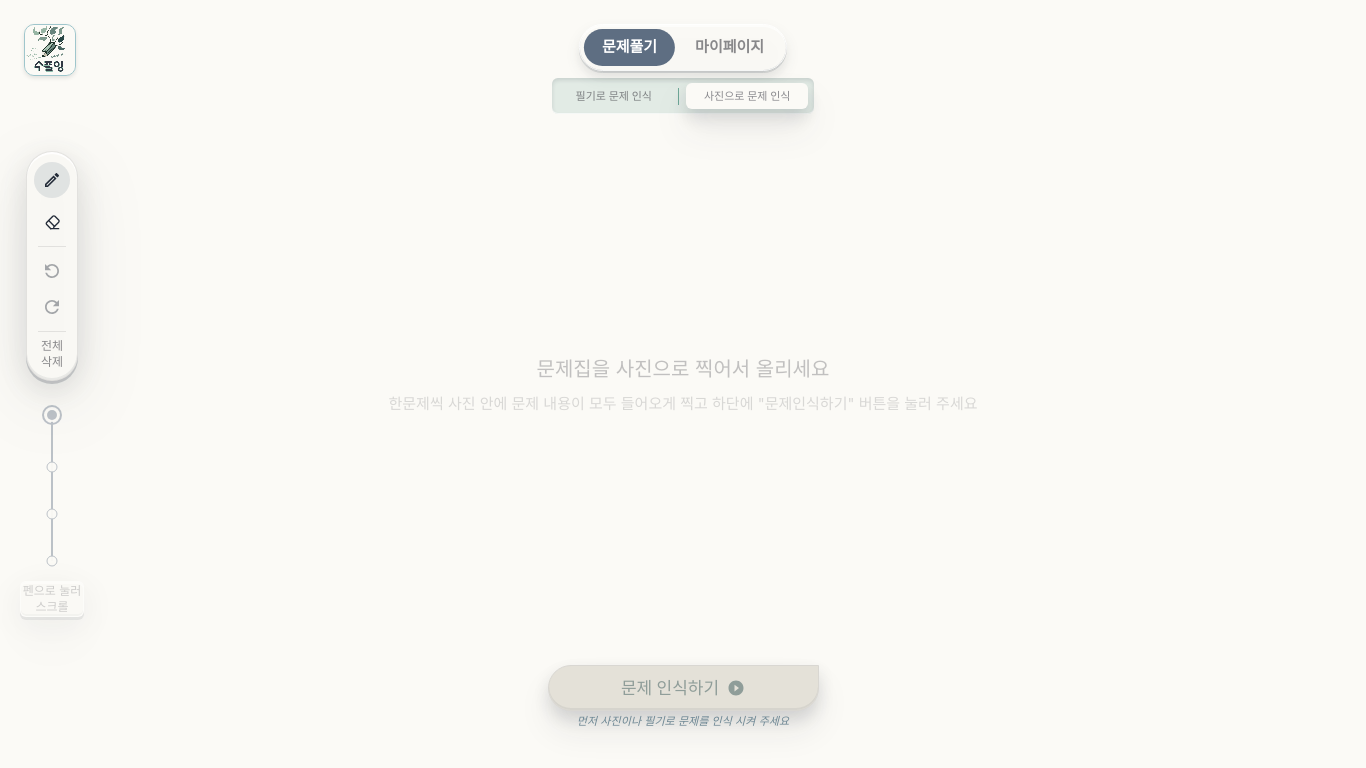
recognize/solve API 연동(모킹) — Result Panel 표시 › 풀기 클릭 후 solve가 성공(done)하면 landscape 화면에 정식 Result Panel이 표시된다
Press the mouse on the drawing at (683, 384), box [0,0,1365,767]
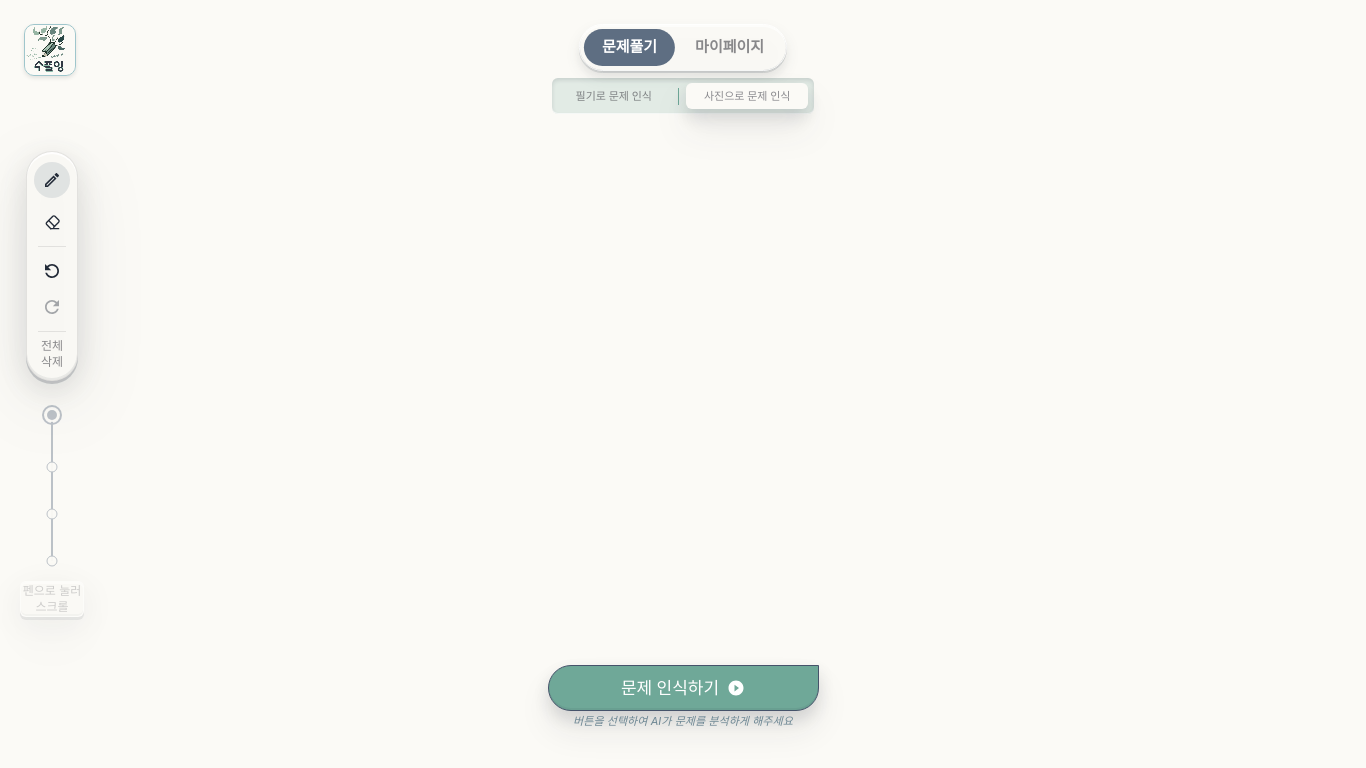
Click the button "문제 인식하기" at (683, 688), box [548,665,818,711]
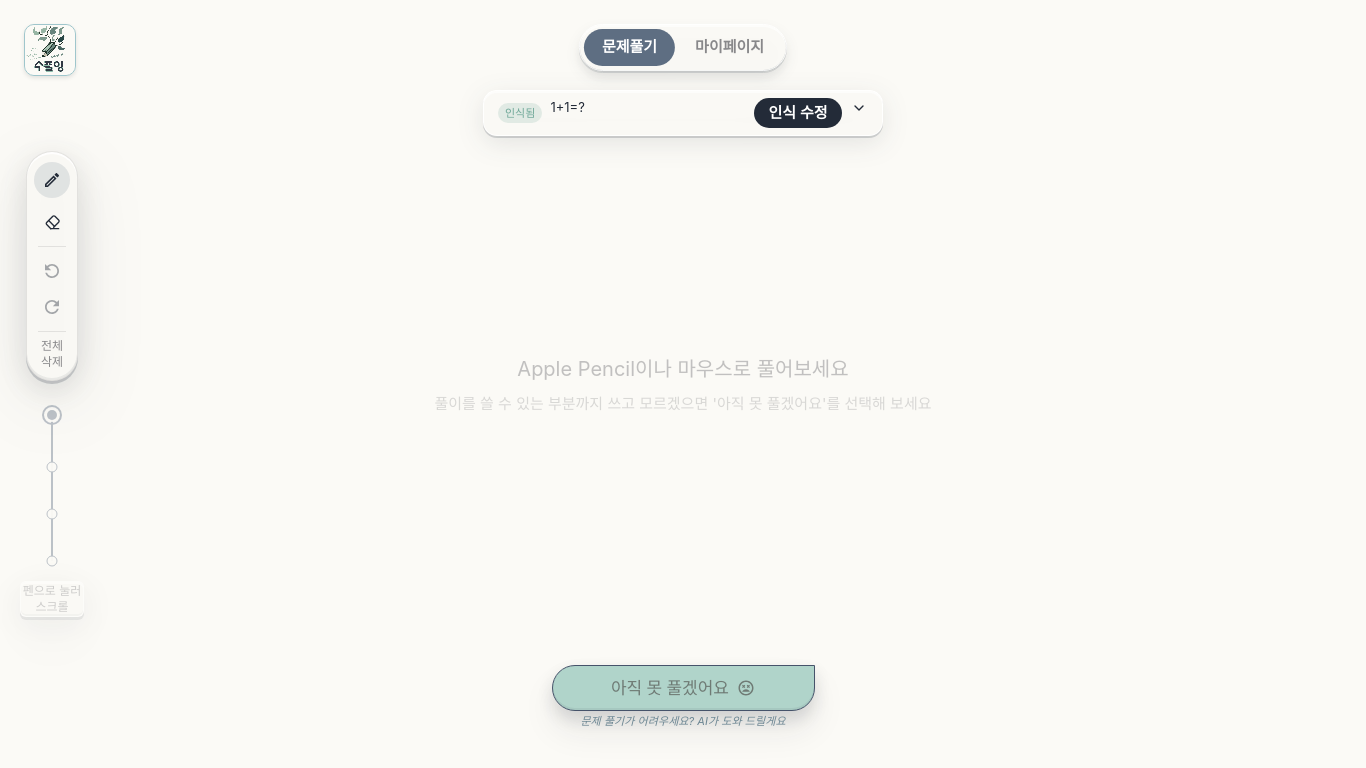
Expected: the button "아직 못 풀겠어요" is enabled
Click the button "아직 못 풀겠어요" at (683, 688), box [552,665,814,711]
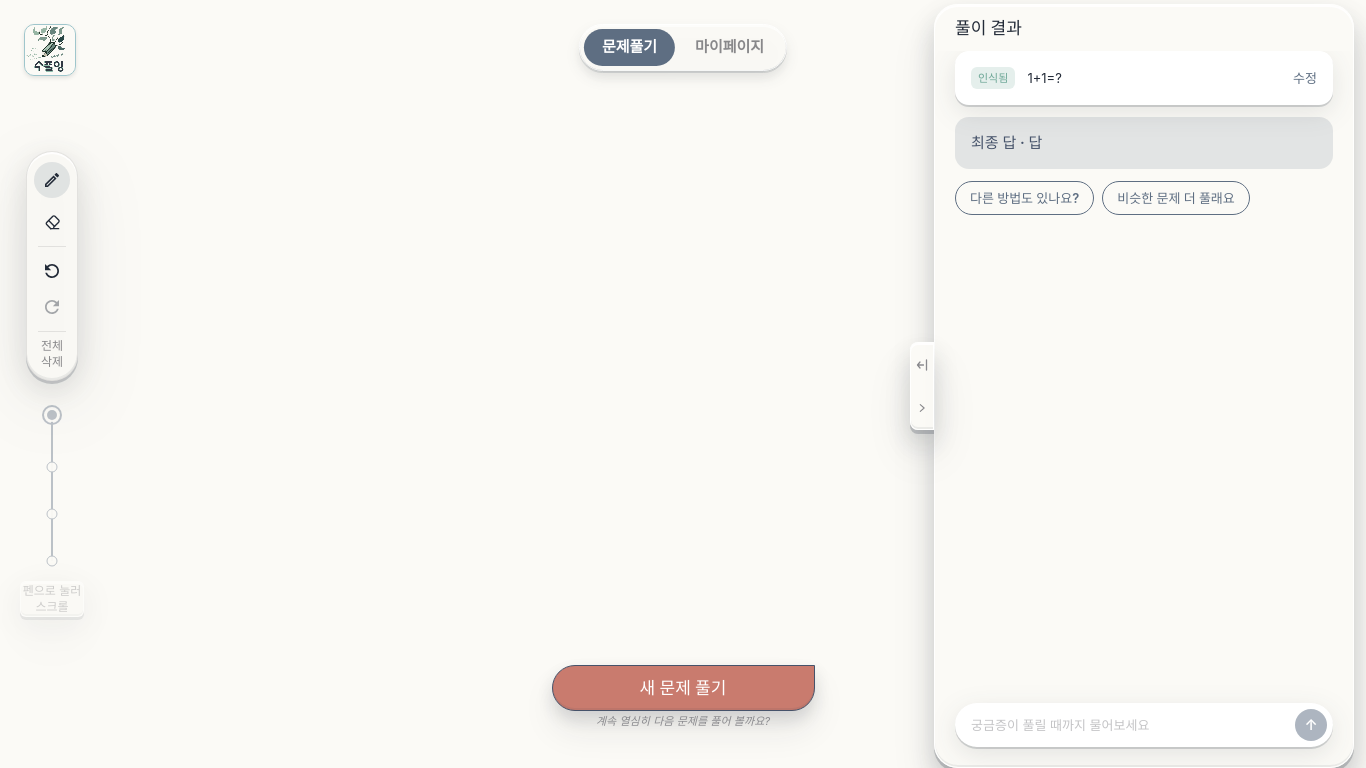
Expected: the text "1+1=?" is shown, [1027,70,1062,86]
Expected: the heading "풀이 결과" is shown, [955,17,1022,39]
